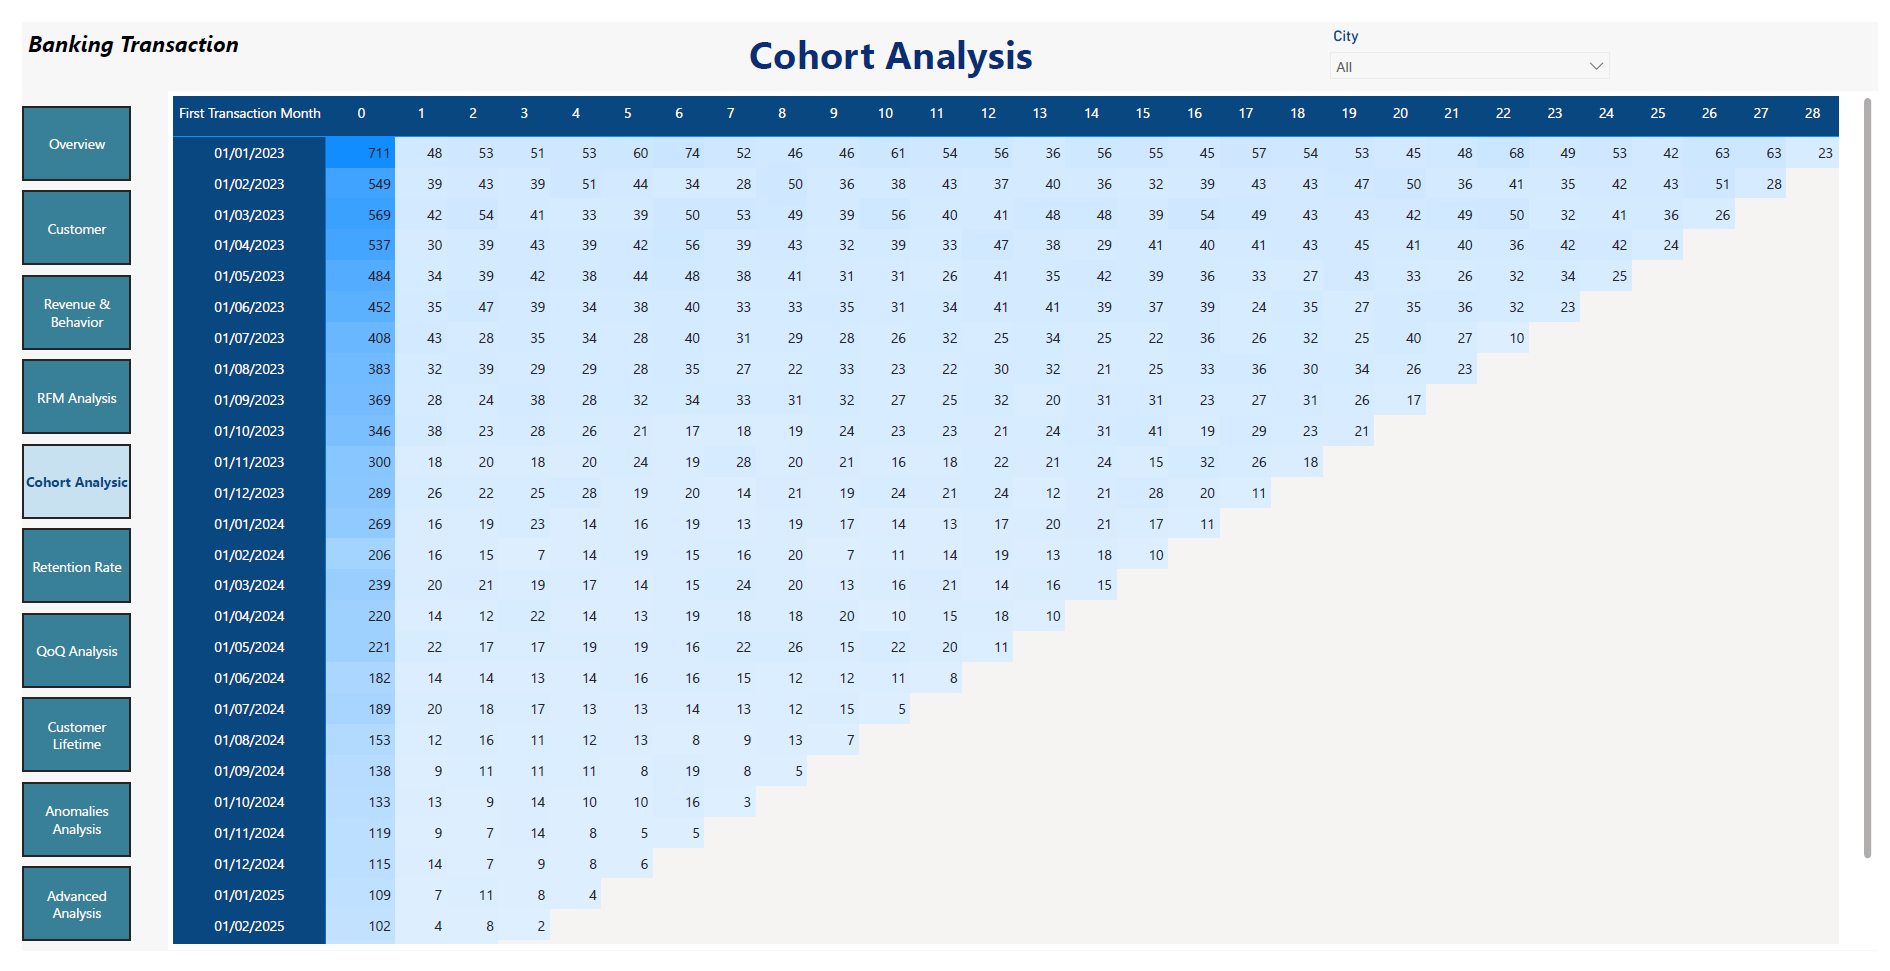

The page's visual inventory and layout, read from the dashboard file:
{"tool":"powerbi","page":{"name":"Cohort Analysic","canvas":[1800,900],"ordinal":5},"visuals":[{"type":"slicer","fields":{"Values":["Dim_Location.BranchCity"]},"box":[1259.1,0,291.1,67],"z":0},{"type":"pivotTable","fields":{"Rows":["Fact_Transaction.FirstTransactionMonth"],"Columns":["Fact_Transaction.MonthOffset"],"Values":["All Measures.Total Customers"]},"box":[140.6,67,1659.7,832.3],"z":1000},{"type":"textbox","box":[700,0,300,67.2],"z":3000},{"type":"textbox","box":[0,0,300,67.2],"z":4000},{"type":"pageNavigator","box":[0,81,105.2,819],"z":4001}]}

Visuals, with their boxes on the page's 1800x900 design canvas (x1, y1, x2, y2). These are canvas units, not pixel positions in the 1890x971 screenshot, which may show the page scaled, cropped or inside an application window:
slicer - Dim_Location.BranchCity: crop(1259, 0, 1550, 67)
pivotTable - Fact_Transaction.FirstTransactionMonth x Fact_Transaction.MonthOffset: crop(141, 67, 1800, 899)
textbox: crop(700, 0, 1000, 67)
textbox: crop(0, 0, 300, 67)
pageNavigator: crop(0, 81, 105, 900)
